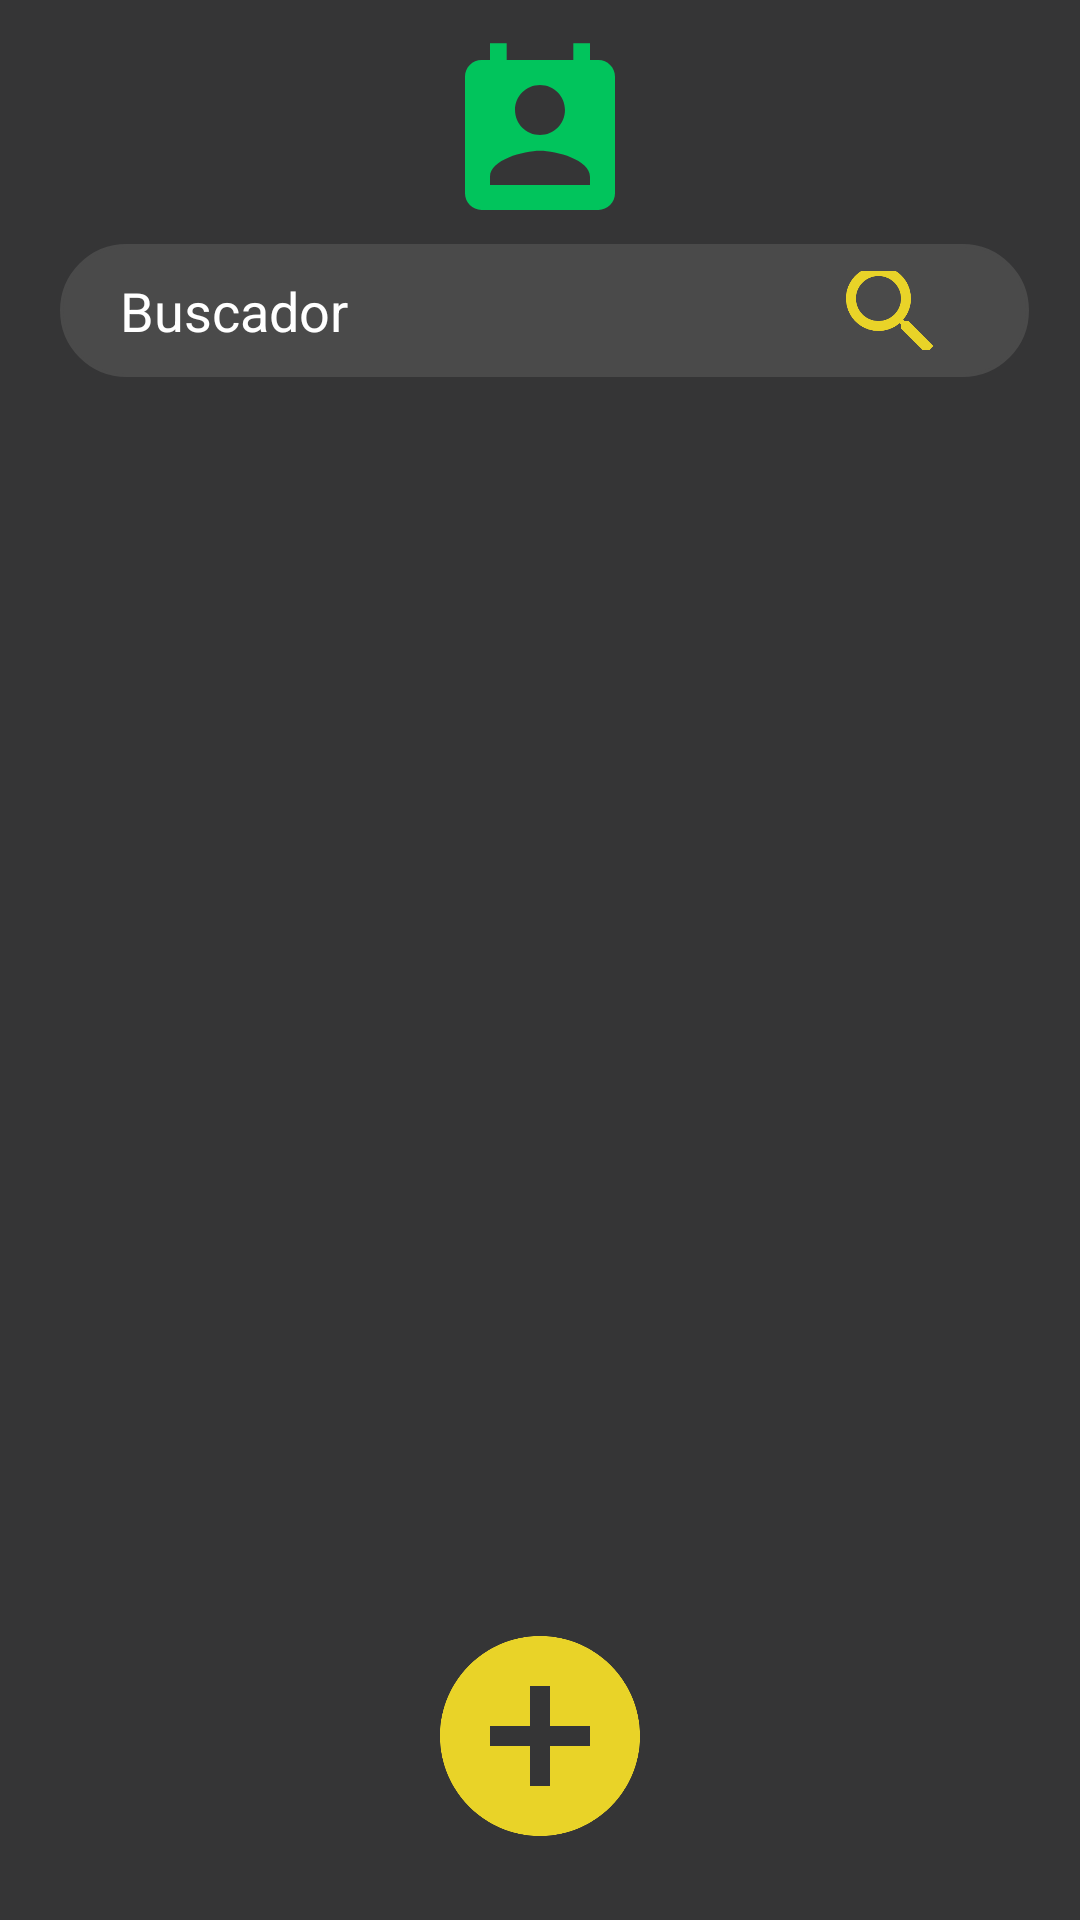

Named icons in this screenshot (1080px×1920px) and their centers, (x=x, y=y):
agregar re: (x=540, y=1736)
perm contact calendar: (x=540, y=126)
